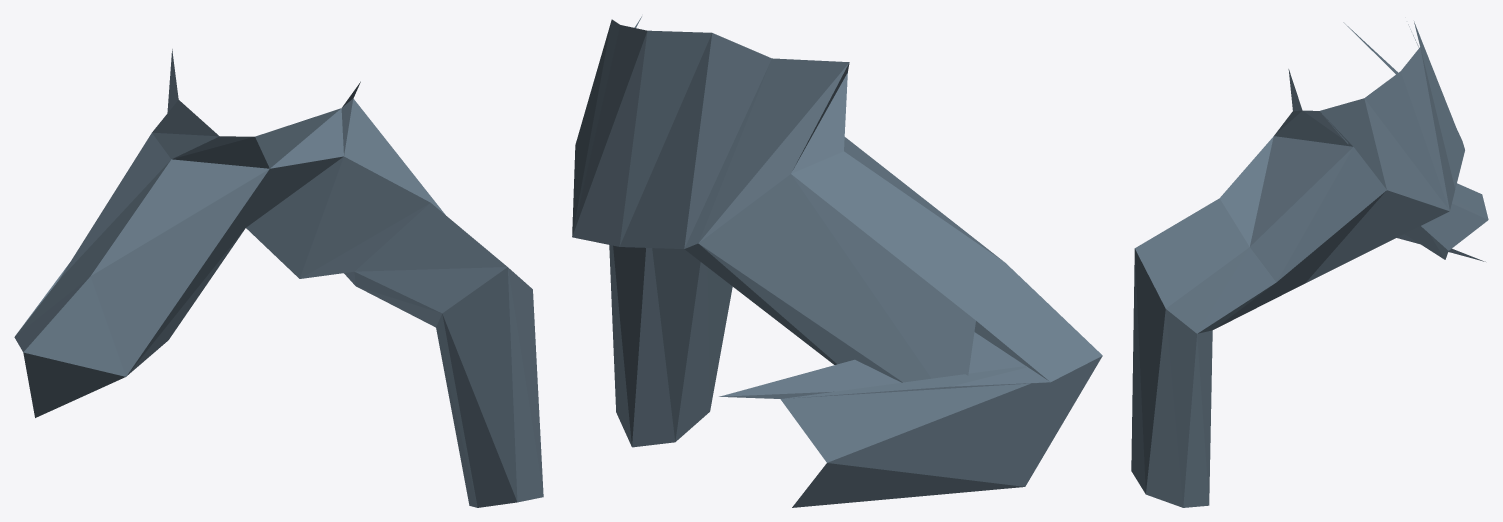
3 views of the same model, side by side, from view 1: azimuth 30°, elevation 25°; view 2: azimuth 150°, elevation 25°; view 3: azimuth 270°, elevation 25° (orthographic). The views are drawn at different scales.
Bounding box in the file's own units: 1.05 × 1 × 0.7964.
